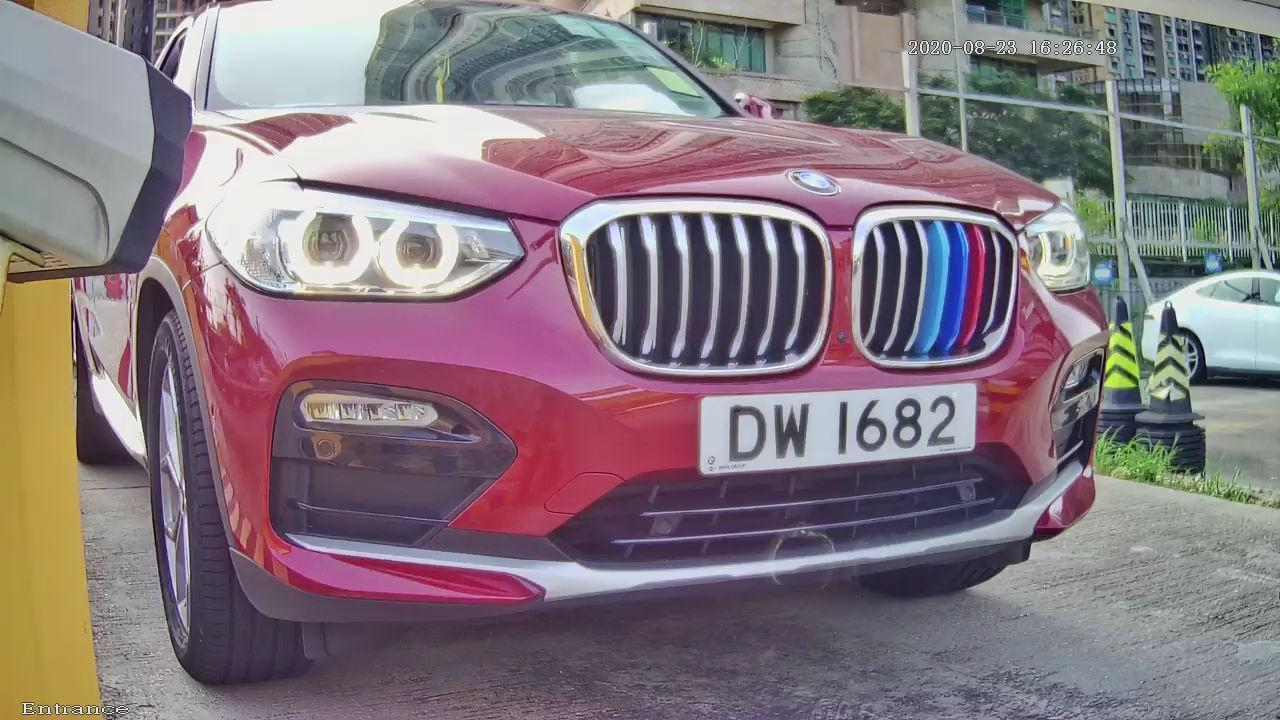Car: (23, 20, 1212, 679)
License Plate: (664, 342, 1045, 509)
